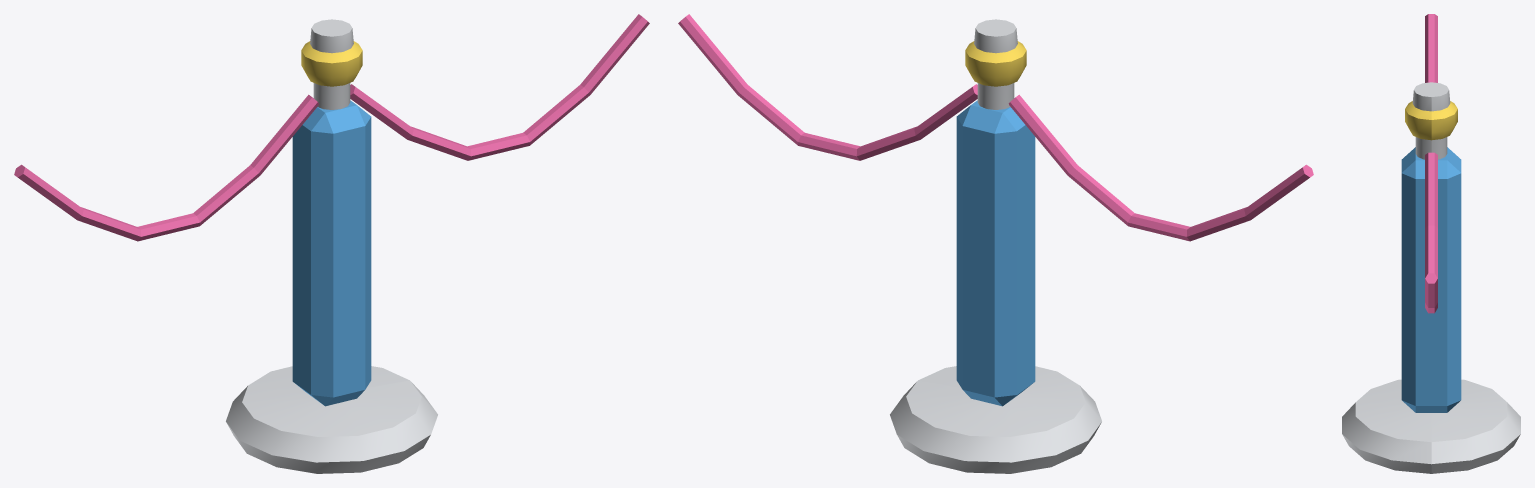
Rendered from trampoline-park-and-soft-play-padded-post-and-rope-div-0de35d7d__34626.glb.
The picture shows the model from 3 angles, left to right: view 1: azimuth 30°, elevation 25°; view 2: azimuth 150°, elevation 25°; view 3: azimuth 270°, elevation 25°; orthographic projection. The views are drawn at different scales.
Parts seen in each view (by area): view 1: padded-post-and-rope-divider; view 2: padded-post-and-rope-divider; view 3: padded-post-and-rope-divider.
Part boxes in pixels (left/top/right/bottom): padded-post-and-rope-divider: left=14, top=14, right=649, bottom=473; padded-post-and-rope-divider: left=678, top=14, right=1313, bottom=473; padded-post-and-rope-divider: left=1342, top=14, right=1520, bottom=473.
Size of the model in its own units: 1.78 by 1.09 by 0.507.
